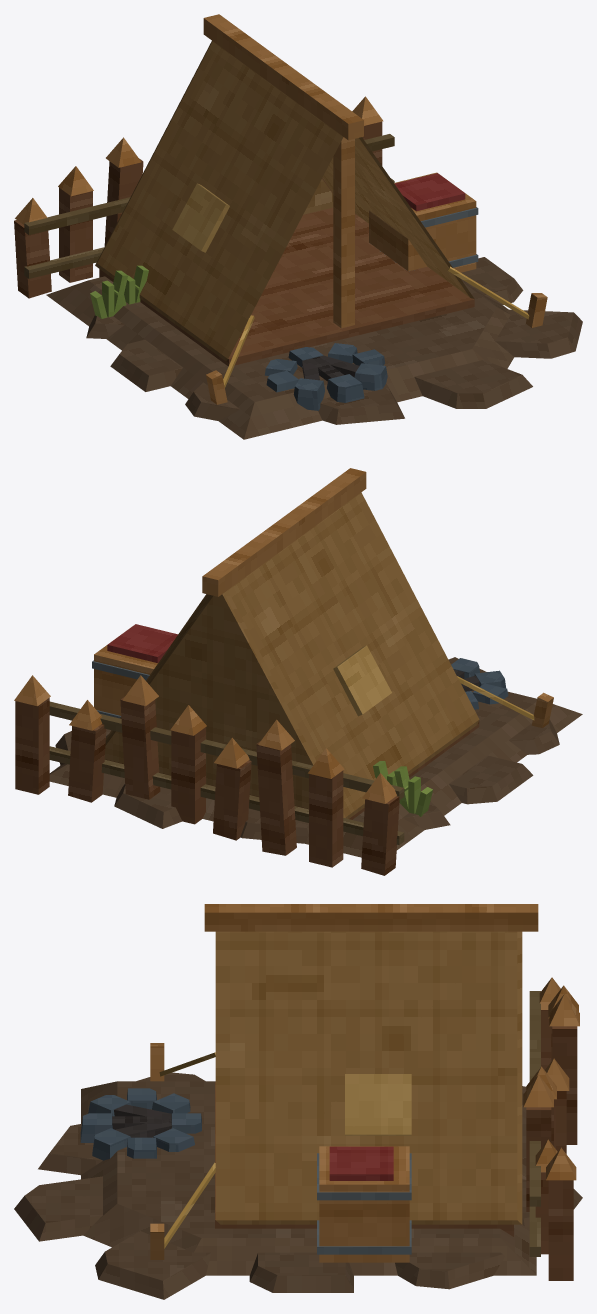
File: goblin_lair_v1.glb
3 views of the same model, one above another, from view 1: azimuth 30°, elevation 25°; view 2: azimuth 150°, elevation 25°; view 3: azimuth 270°, elevation 25° (orthographic). The views are drawn at different scales.
Visible parts, largest first — view 1: Model; view 2: Model; view 3: Model.
Boxes of the visible parts, box(x1,y1,x2,y2) form: Model: box(14, 14, 582, 439); Model: box(14, 468, 582, 875); Model: box(14, 904, 582, 1299).
Bounding box in the file's own units: 1.15 × 0.658 × 1.23.
1 material, 1 textured.
